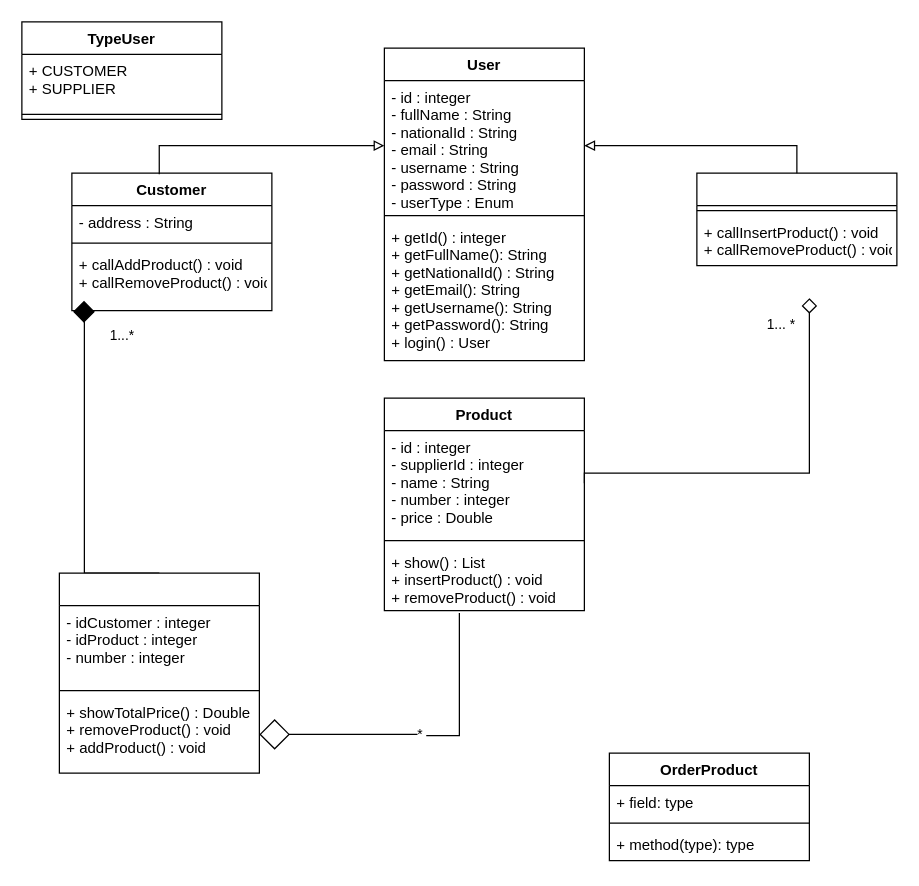
The diagram is 919 pixels wide and 886 high, and some of its shapes have lost their labels. Each missing label, with the box of its shape:
PurchaseOrder: (58, 572, 259, 773)
Supplier: (696, 172, 897, 266)
